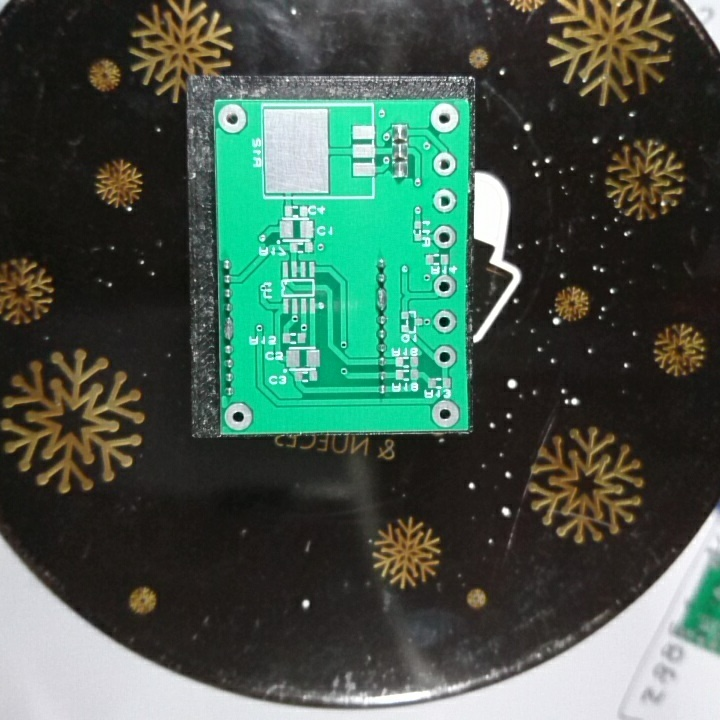F: (427, 100, 463, 137), (216, 102, 249, 135), (430, 395, 459, 429), (222, 400, 252, 431), (431, 186, 459, 215), (431, 150, 459, 178), (431, 272, 458, 300), (431, 222, 457, 251), (431, 343, 459, 369), (432, 309, 458, 336)
P: (374, 285, 389, 315), (222, 314, 237, 344)
